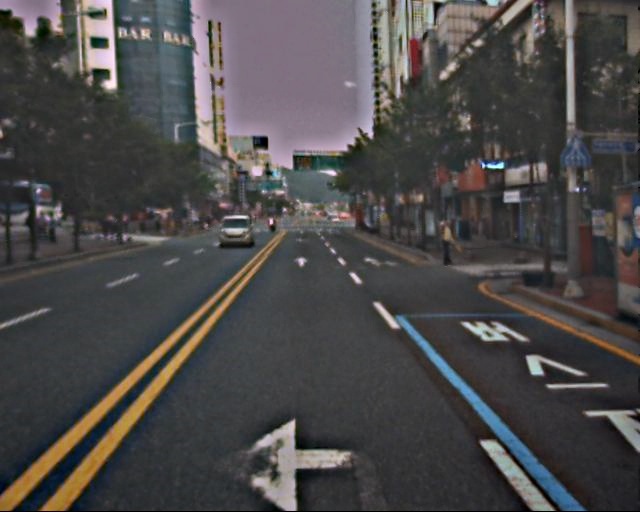person: (435, 216, 460, 274)
